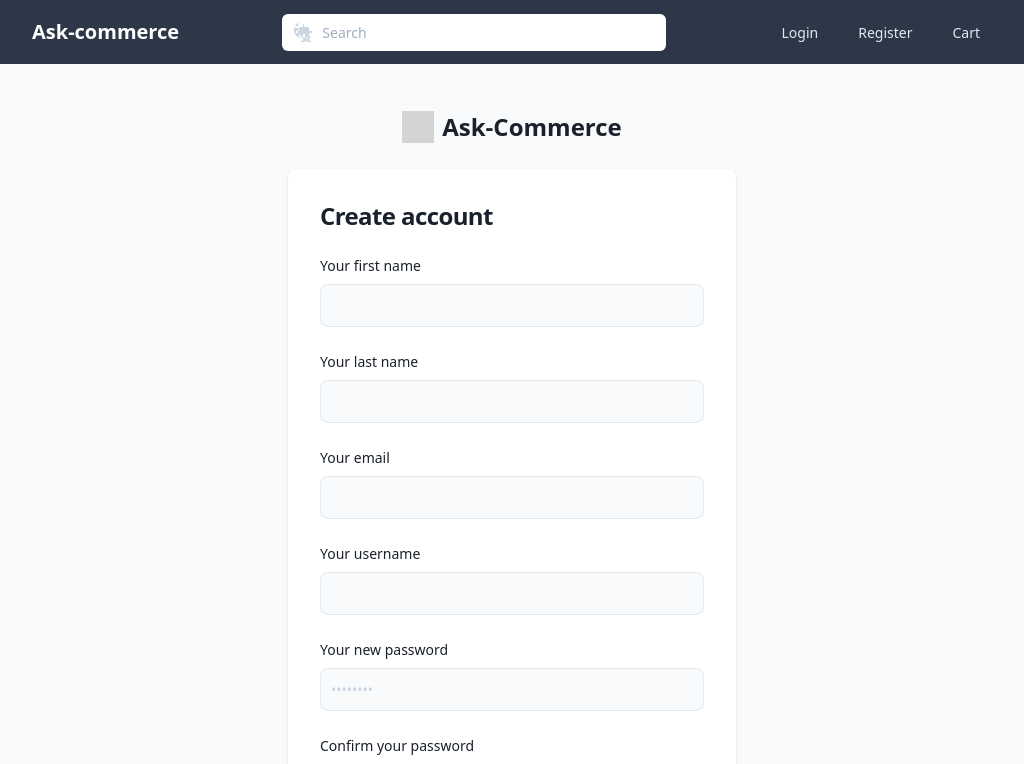
Test: RegisterForm › Exibe uma mensagem de erro quando o email é inválido
Type "email_invalido" into the field named "email". click: (512, 498)
box: [320,476,704,519]
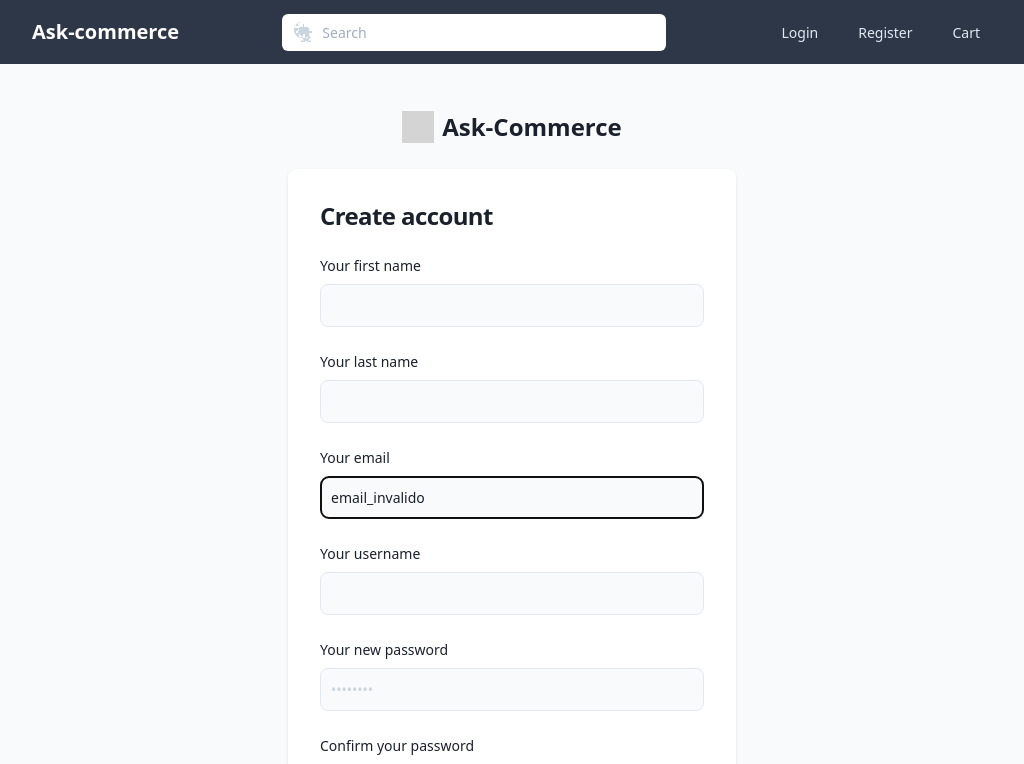
Scroll
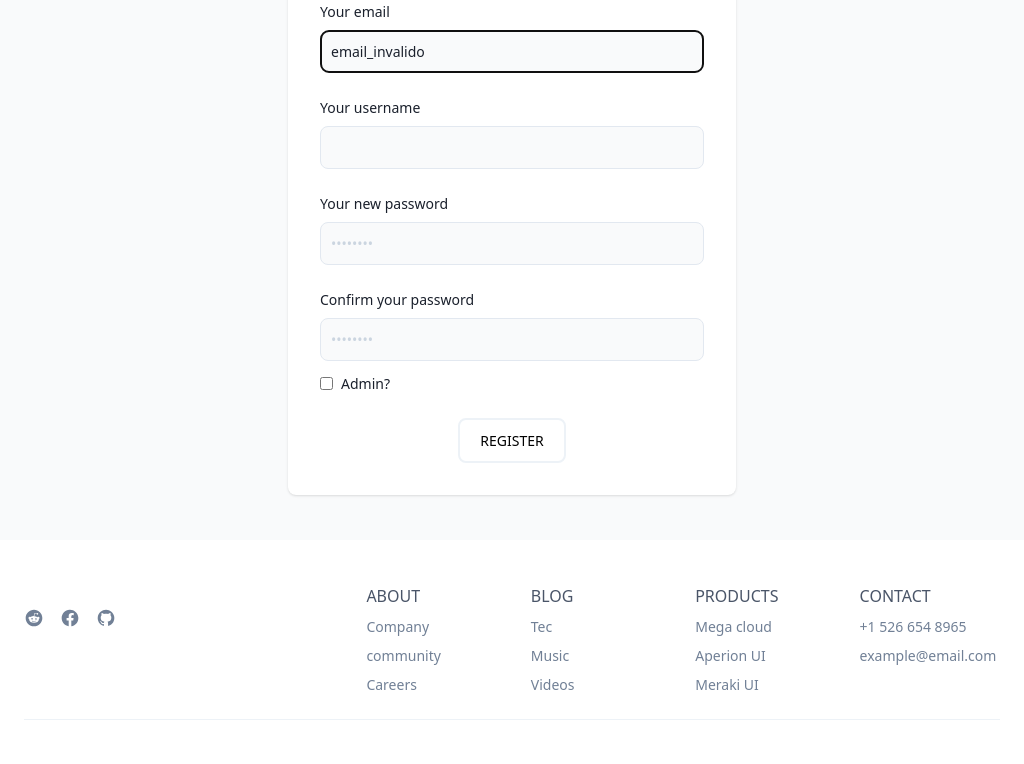
Click the submit button. click: (512, 441)
box: [458,418,565,463]
(page scrolled)
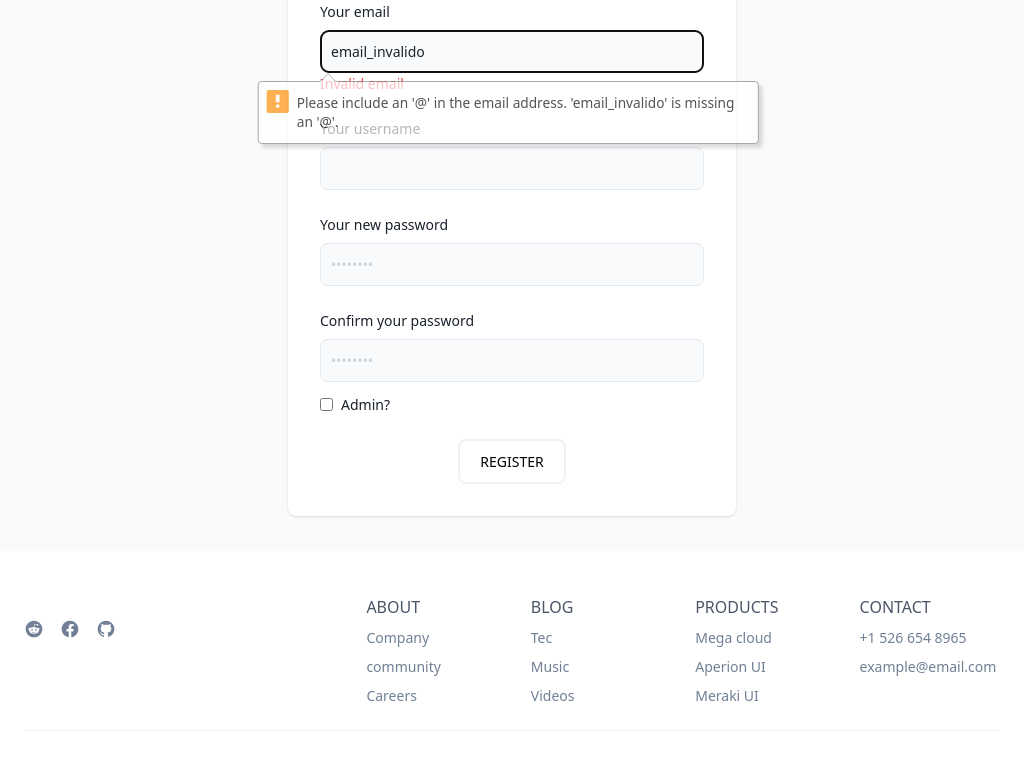
Now the text "Invalid email" is shown, box [320,74,404,93]
